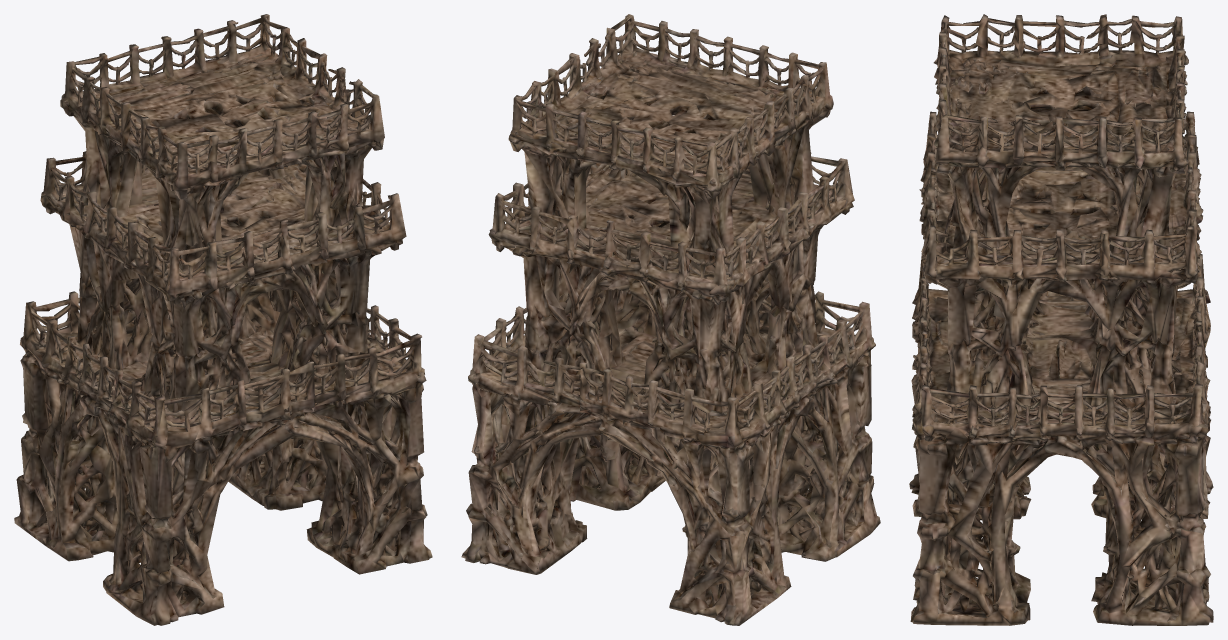
Rendered from bone-spire.glb.
3 views of the same model, side by side, from view 1: azimuth 30°, elevation 25°; view 2: azimuth 150°, elevation 25°; view 3: azimuth 270°, elevation 25° (orthographic). The views are drawn at different scales.
Parts seen in each view (by area): view 1: Mesh_0.001; view 2: Mesh_0.001; view 3: Mesh_0.001.
Boxes of the visible parts, box(x1,y1,x2,y2) form: Mesh_0.001: box(14, 14, 432, 625); Mesh_0.001: box(461, 14, 880, 625); Mesh_0.001: box(909, 14, 1213, 625).
Size of the model in its own units: 7.74 by 11.97 by 6.76.
Materials: 1 (1 with a texture image).
